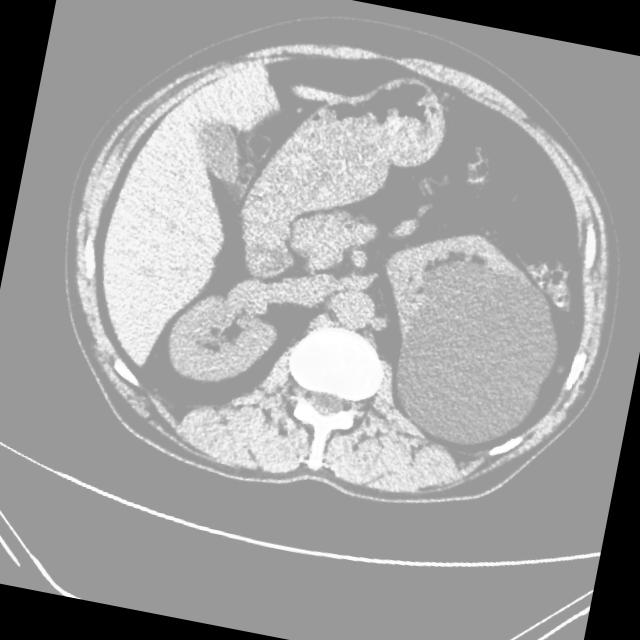cysts: (31, 0, 640, 540)
